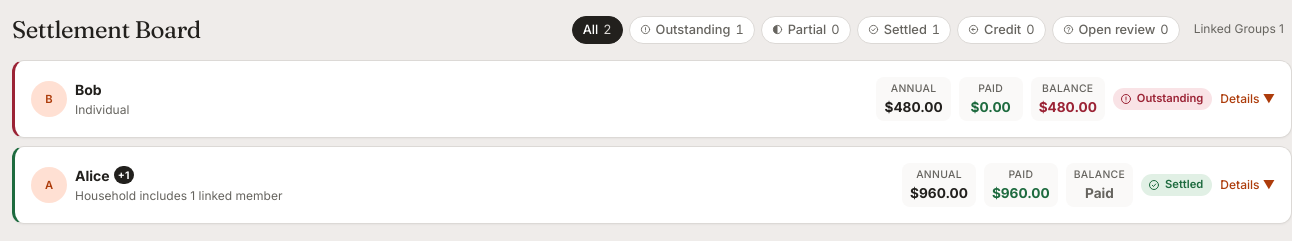
Test: SettlementBoard › filters by status
The image size is (1292, 241).
What coordinates should you click on to do the following:
click the button "Settled 1"
I would click on:
 (904, 30)
Its box is [857,16,951,44].
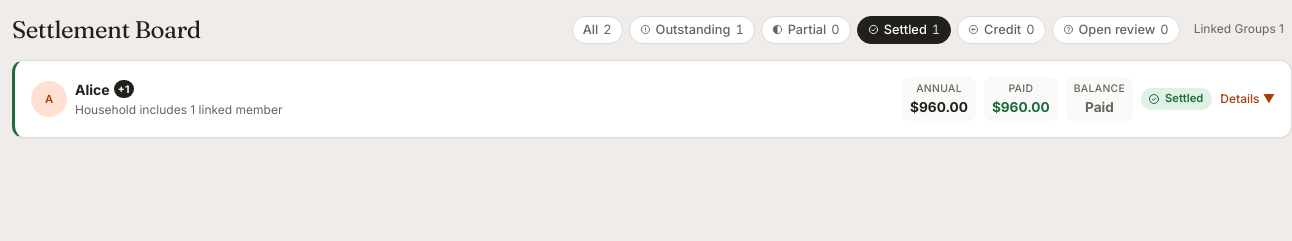
Expected: the text "Alice" is shown, [75,79,110,100]
Now the text "Bob" is gone
